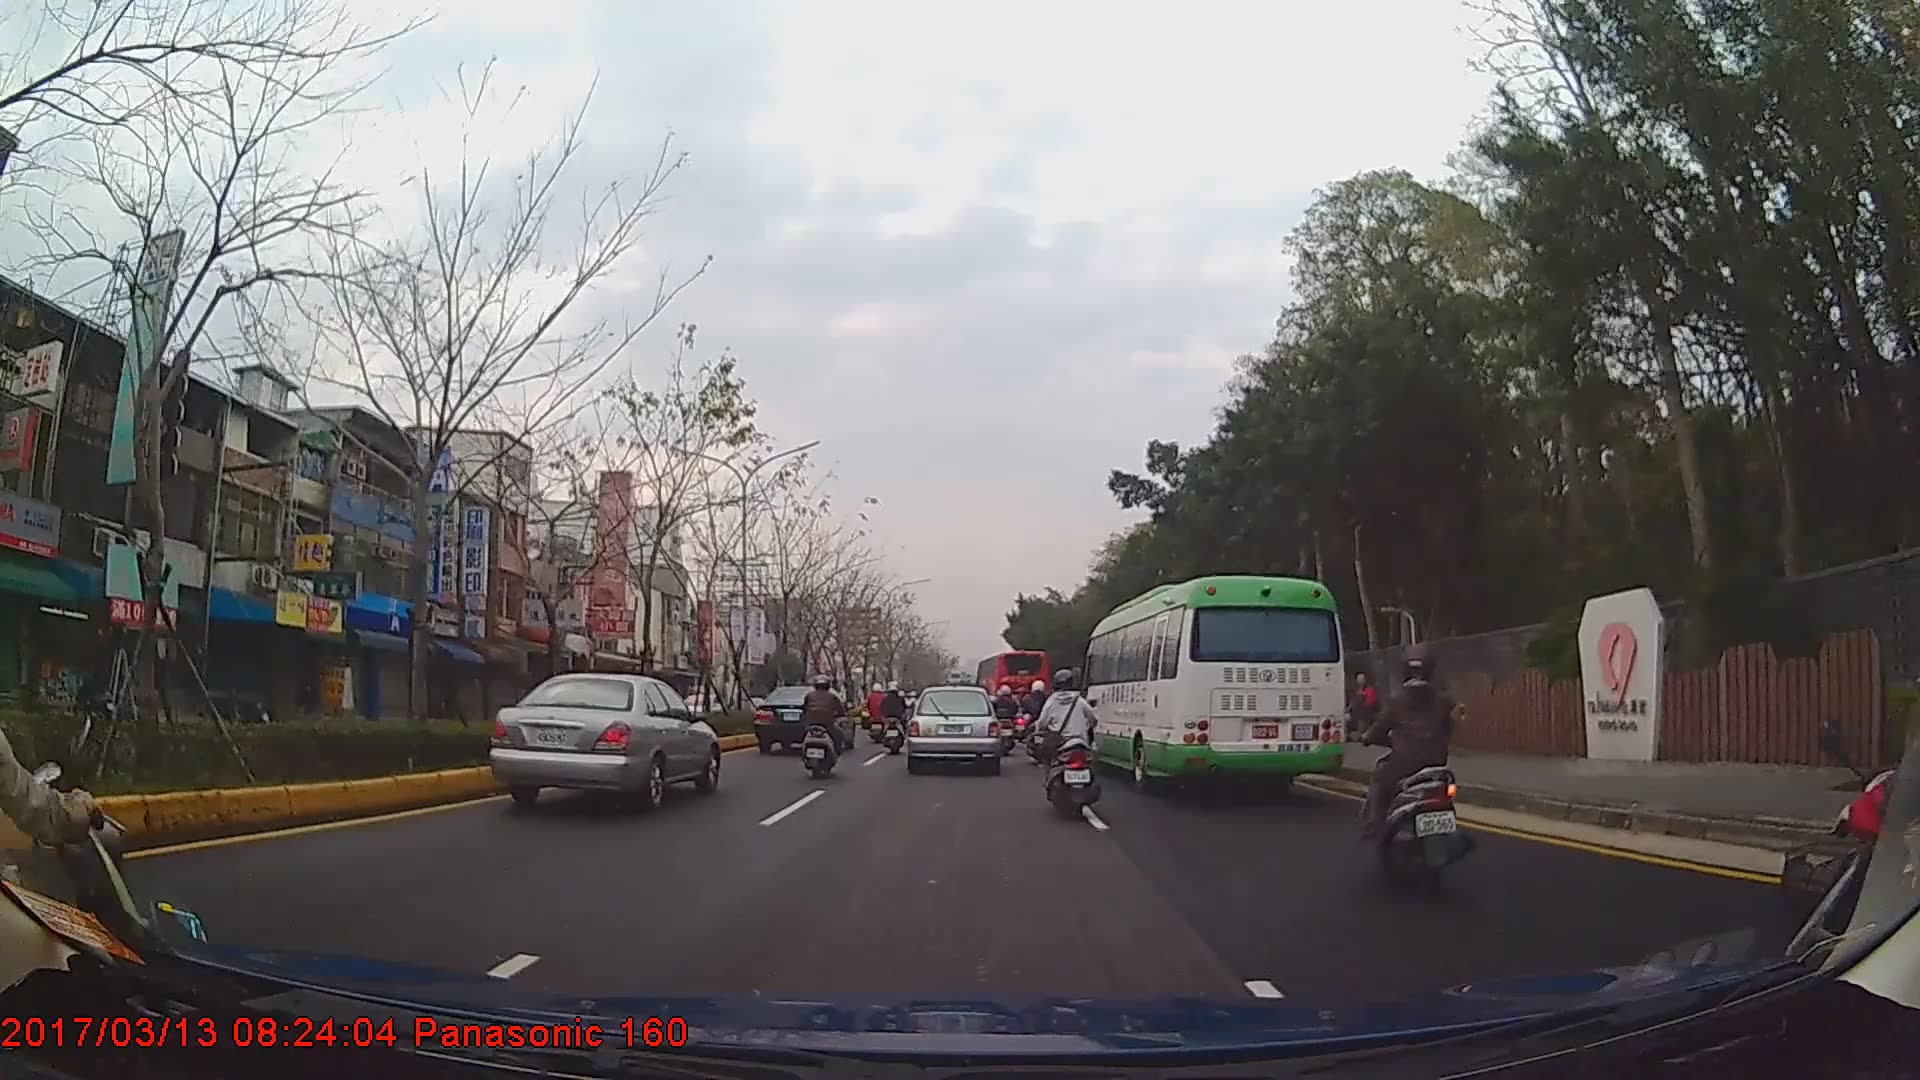pedestrian: (1347, 674, 1381, 747)
rider: (1, 511, 155, 1037), (1352, 645, 1470, 886), (1036, 669, 1098, 820), (803, 673, 849, 777), (989, 685, 1019, 756), (879, 682, 909, 756), (1024, 679, 1053, 750), (866, 682, 891, 745), (903, 691, 923, 728)
vehicle: (1075, 572, 1346, 790), (487, 669, 719, 817), (903, 686, 1003, 774), (755, 682, 858, 754), (976, 646, 1048, 723)
